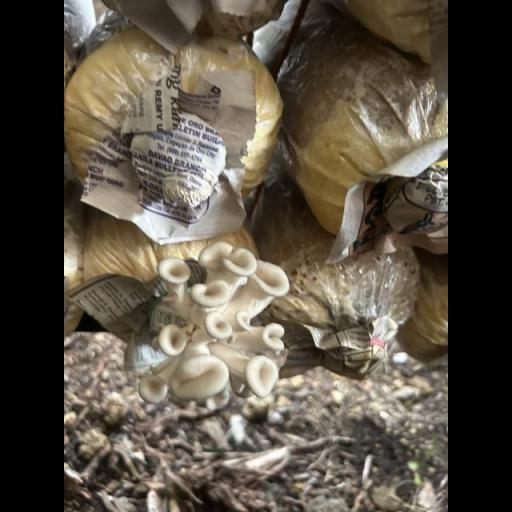White Oyster Mushroom: (128, 232, 303, 426)
